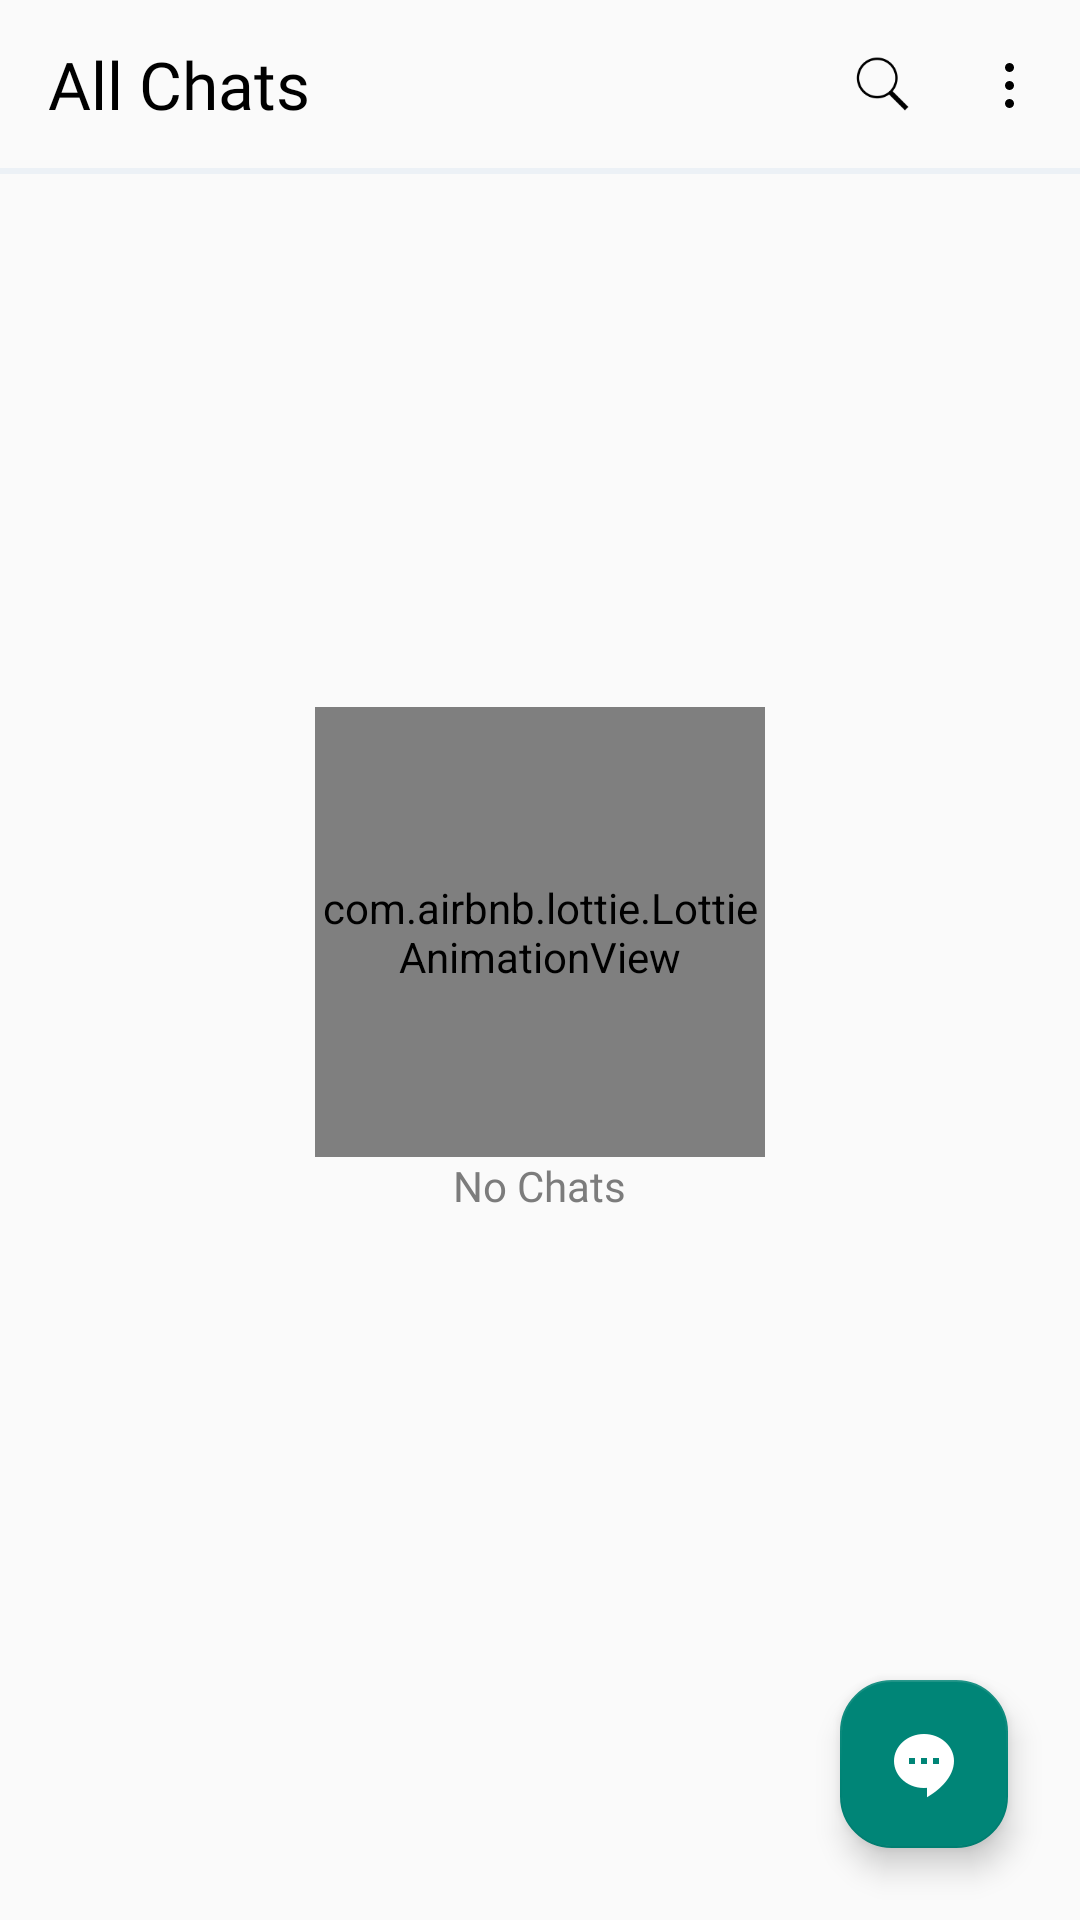

Screen size 1080px×1920px. Icon name, then its center in pixels as (x,y):
chat: (924,1764)
res three dots: (1009,85)
search: (882,84)
